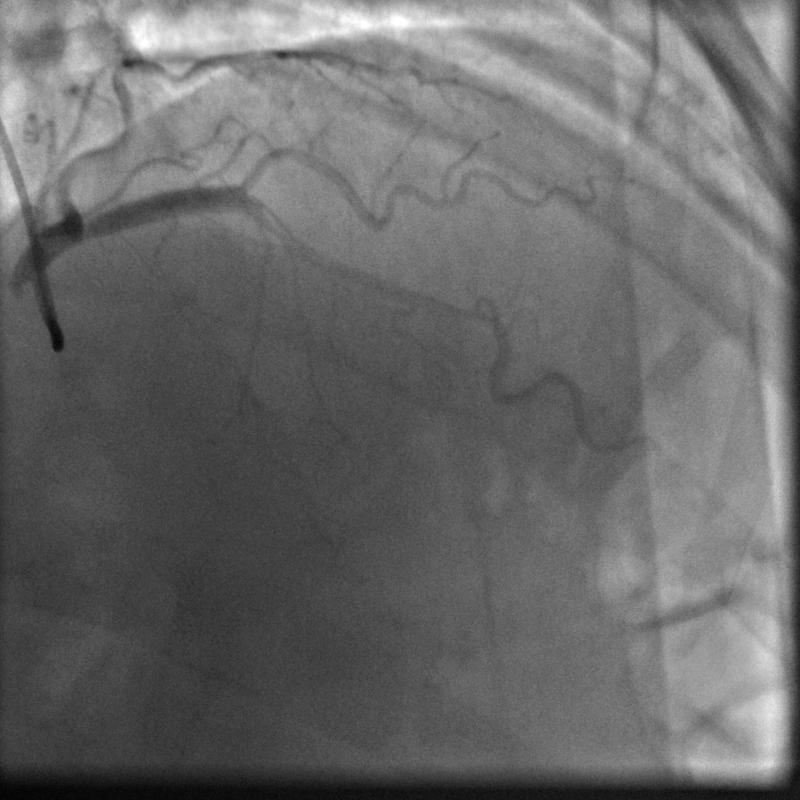Stenosis: (444, 297, 500, 333)
